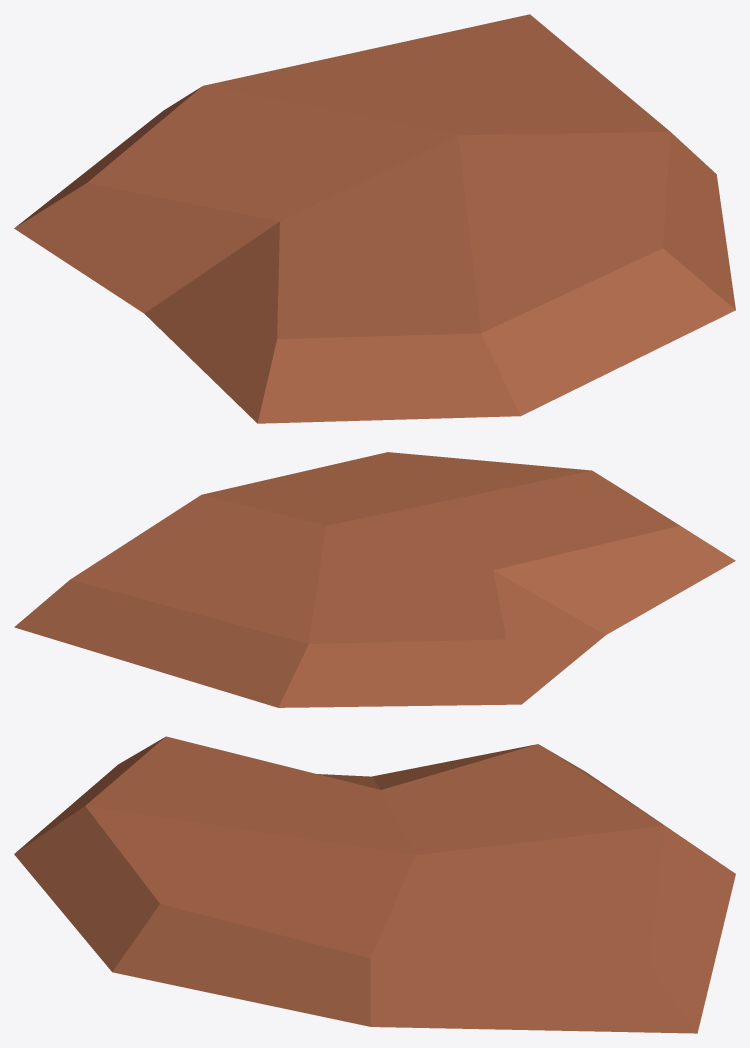
Rendered from pebble1.glb.
3 renders of one model, top to bottom at view 1: azimuth 30°, elevation 25°; view 2: azimuth 150°, elevation 25°; view 3: azimuth 270°, elevation 25°, orthographic. The views are drawn at different scales.
Visible parts, largest first — view 1: pebble1; view 2: pebble1; view 3: pebble1.
Boxes of the visible parts, left/top/right/bottom form: pebble1: left=14, top=14, right=735, bottom=423; pebble1: left=14, top=452, right=735, bottom=707; pebble1: left=14, top=736, right=735, bottom=1033.
Size of the model in its own units: 0.5637 by 0.068 by 0.6391.
